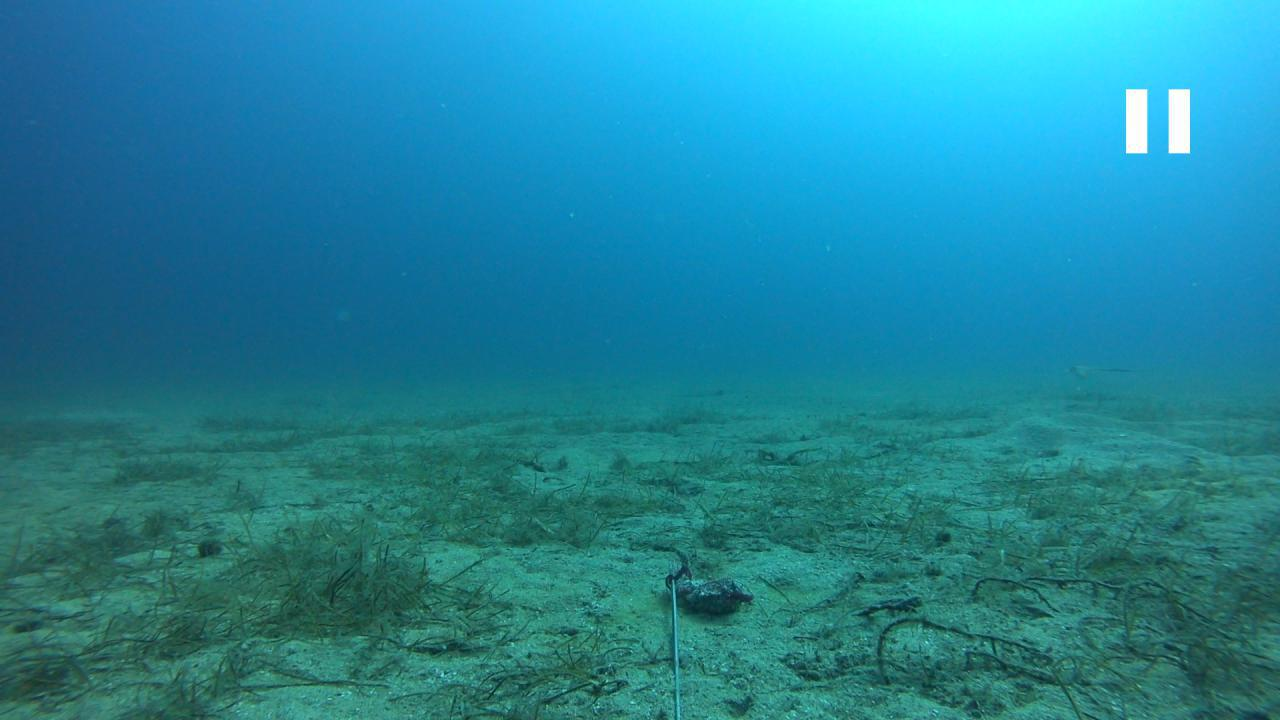dasyatis: (1063, 362, 1131, 377)
